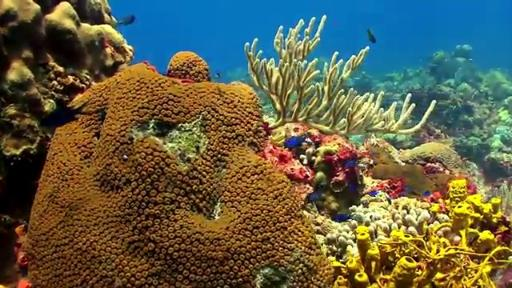Fish: (40, 108, 76, 127), (284, 133, 308, 149), (307, 186, 323, 202), (116, 15, 135, 27), (332, 214, 353, 222), (367, 28, 376, 43), (345, 160, 358, 168), (367, 191, 379, 196), (348, 184, 357, 190), (424, 191, 431, 196), (216, 72, 221, 78)
